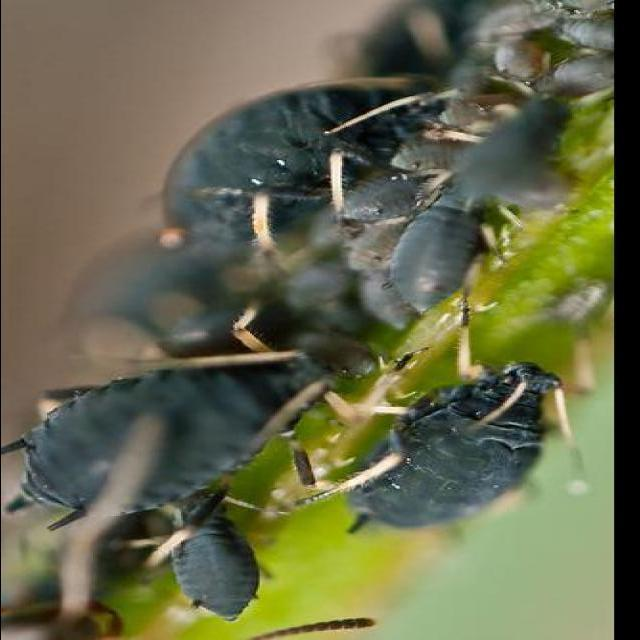aphid: (90, 44, 431, 258), (298, 325, 584, 553), (356, 160, 512, 319)
